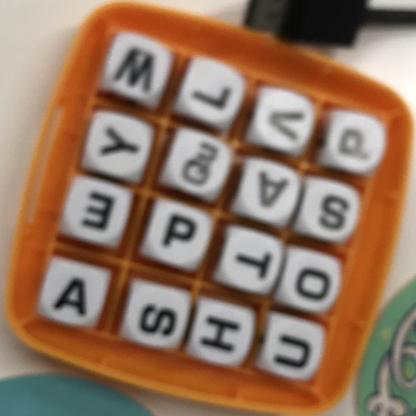a: (240, 166, 302, 218), (49, 268, 96, 321)
e: (76, 182, 132, 238)
h: (201, 308, 248, 360)
l: (186, 66, 244, 122)
o: (289, 263, 335, 309)
p: (155, 206, 210, 266), (331, 124, 388, 166)
q: (173, 134, 231, 193)
s: (310, 191, 362, 239), (133, 294, 182, 344)
t: (228, 236, 281, 290)
u: (266, 329, 324, 378)
v: (262, 99, 313, 150)
w: (109, 30, 165, 101)
y: (90, 118, 144, 169)
